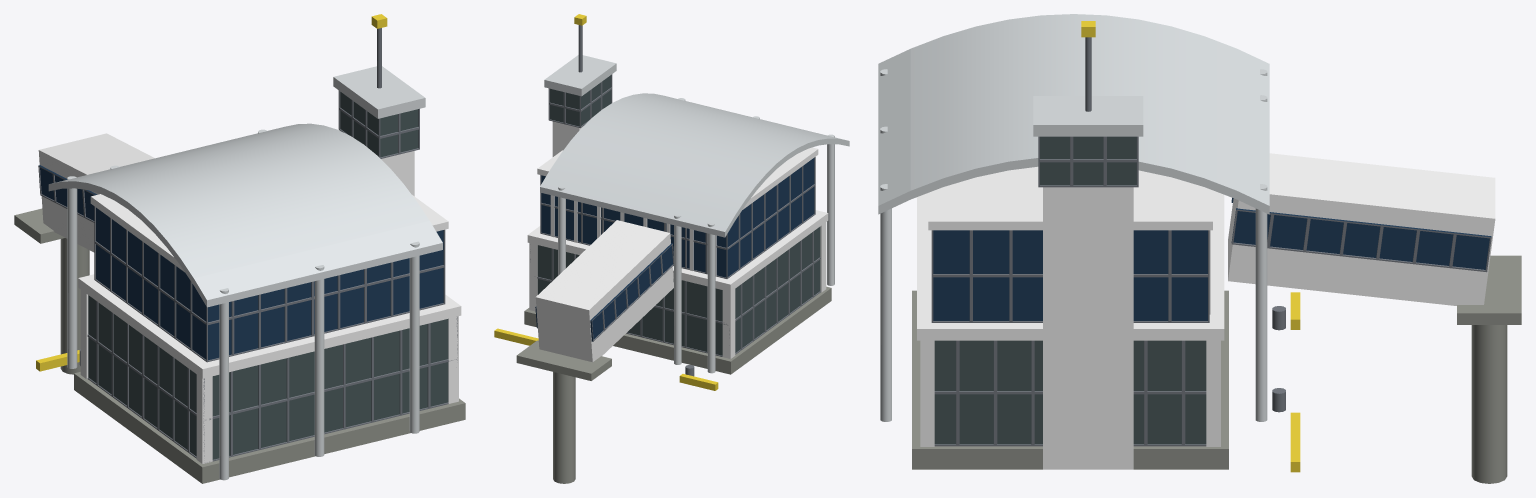
File: port_crane_close.fbx
3 renders of one model, left to right at view 1: azimuth 30°, elevation 25°; view 2: azimuth 150°, elevation 25°; view 3: azimuth 270°, elevation 25°, orthographic. The views are drawn at different scales.
Visible parts, largest first — view 1: a402.Terminal.001; view 2: a402.Terminal.001; view 3: a402.Terminal.001.
Part boxes in pixels (bbox=[...]): a402.Terminal.001: bbox=[14, 14, 465, 483]; a402.Terminal.001: bbox=[494, 14, 849, 483]; a402.Terminal.001: bbox=[878, 14, 1521, 483].
Size of the model in its own units: 12.4 by 18.35 by 19.9.
